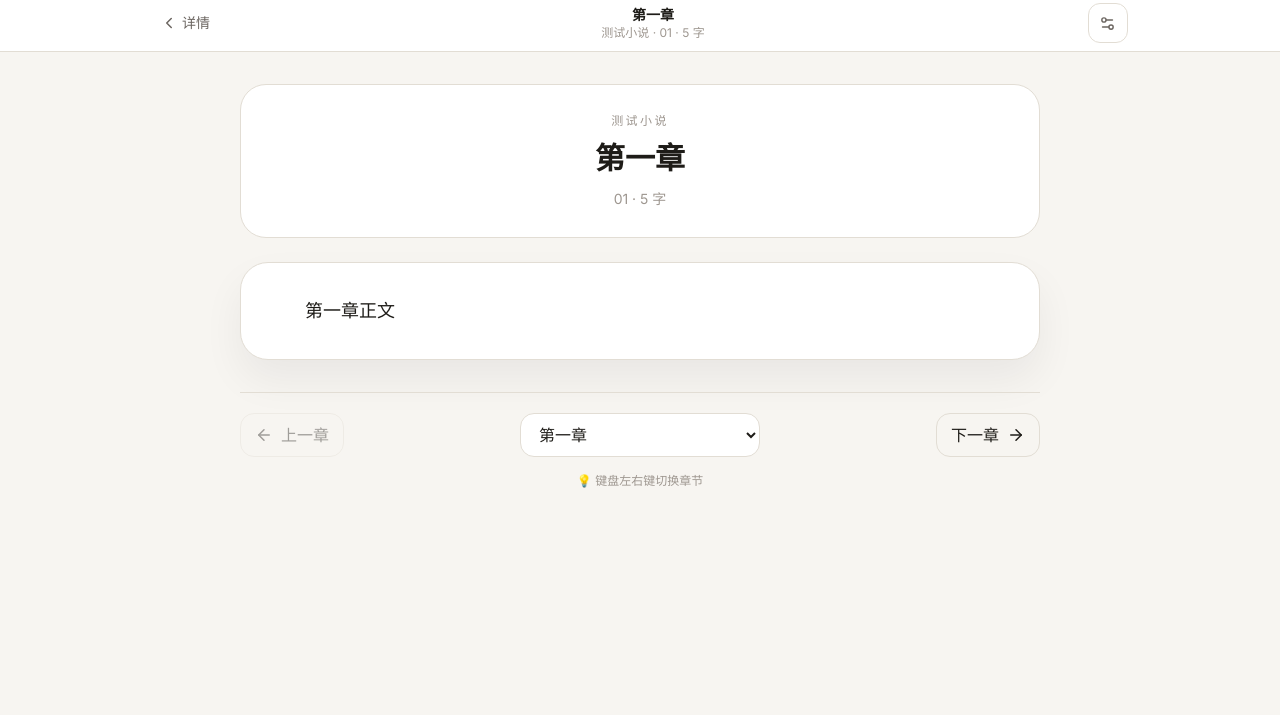
SquarePage chapter reader › returns from the reader to the detail page when the chapter segment is removed
This screenshot has width=1280, height=715.
Check: the text "第一章正文" is shown, box [305,301,395,321]
Click the button "详情" at (185, 23), box [152,3,218,43]
(page scrolled)
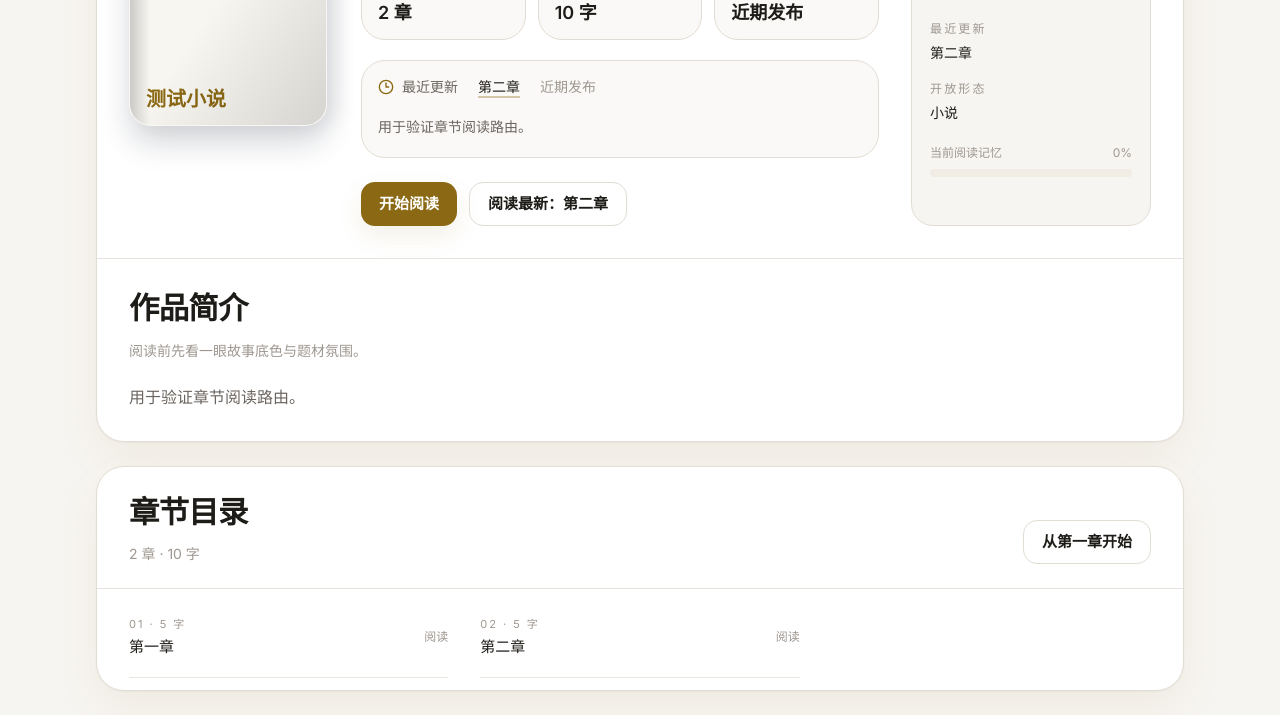
Check: the heading "章节目录" is shown, box [129,491,248,536]
